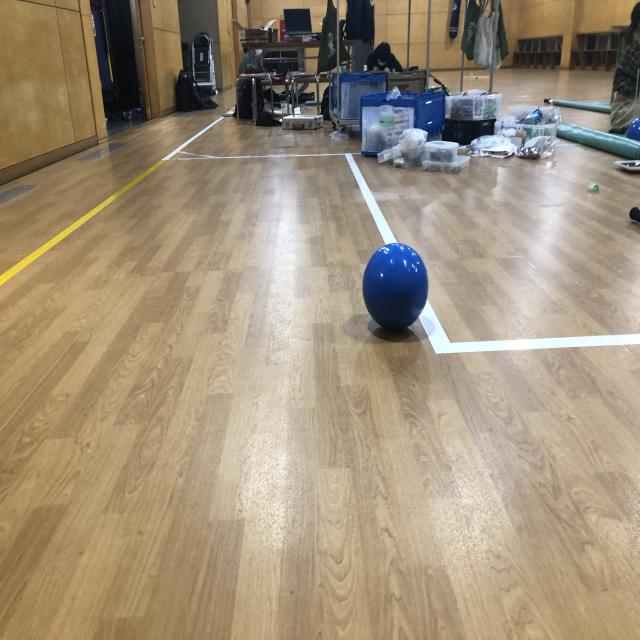blue_ball: (361, 240, 426, 332)
